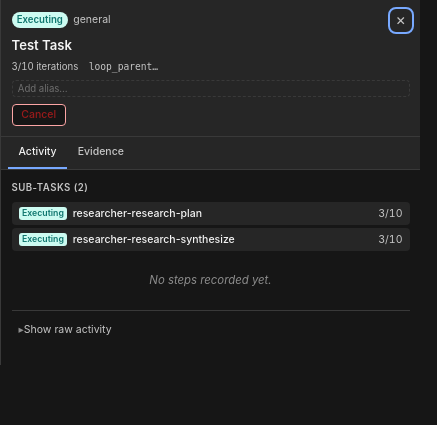
TaskDetailPanel › child loops › clicking a child swaps the right-rail to the child's trajectory
Click the 2nd button with test id "child-item".
click(210, 240)  # box [12,228,410,251]
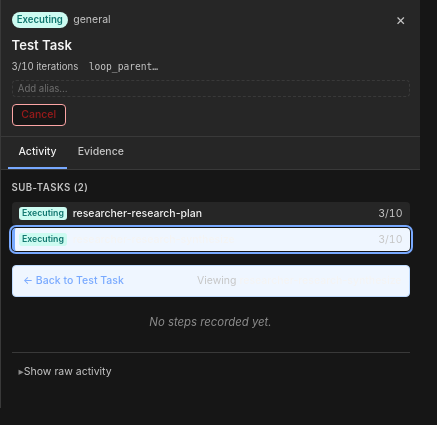
Expected: the element with test id "focus-breadcrumb" shows "Back to", [20,271,127,291]
